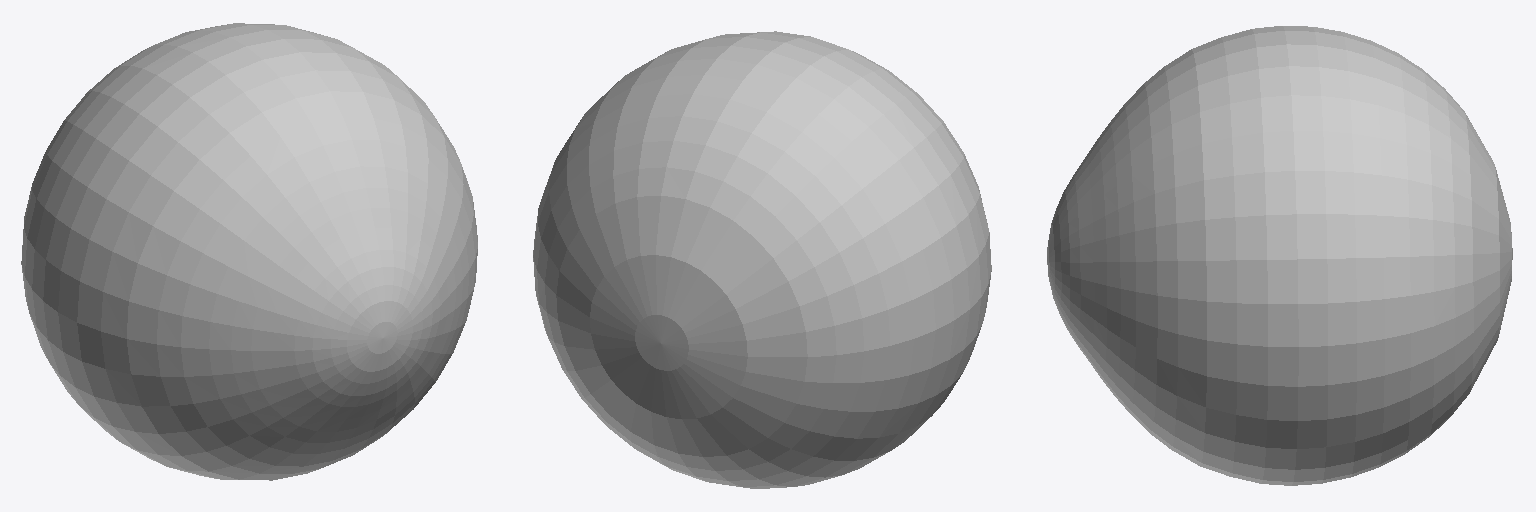
Rendered from mesh_eye_ball_L.obj.
The picture shows the model from 3 angles: view 1: azimuth 30°, elevation 25°; view 2: azimuth 150°, elevation 25°; view 3: azimuth 270°, elevation 25°; orthographic projection.
Bounding box in the file's own units: 0.2438 × 0.243 × 0.2457.